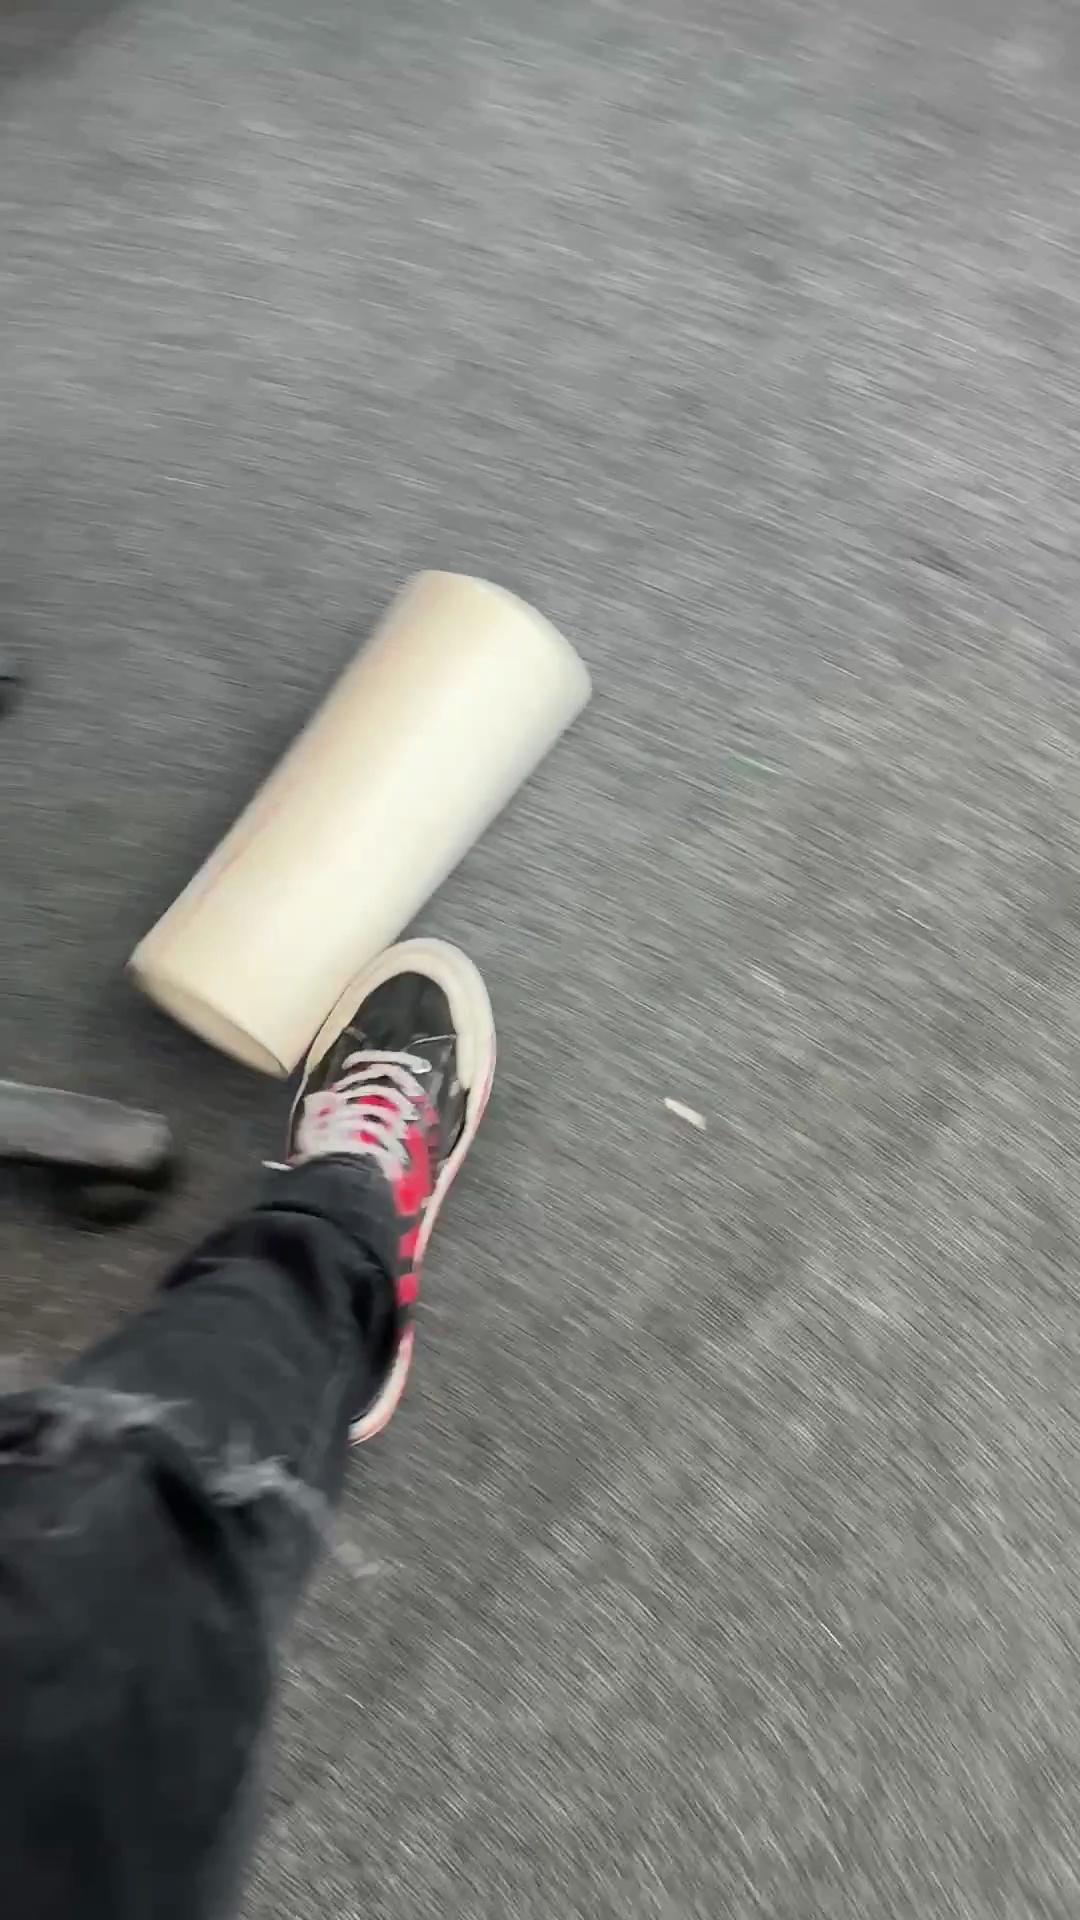CORAL: (123, 564, 593, 1083)
